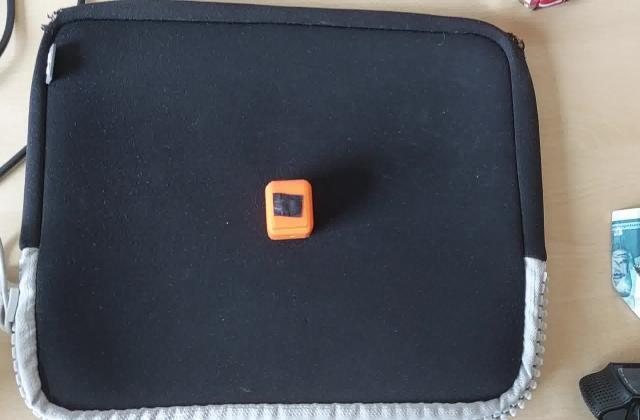black: (268, 191, 306, 221)
sticker: (262, 180, 316, 244)
